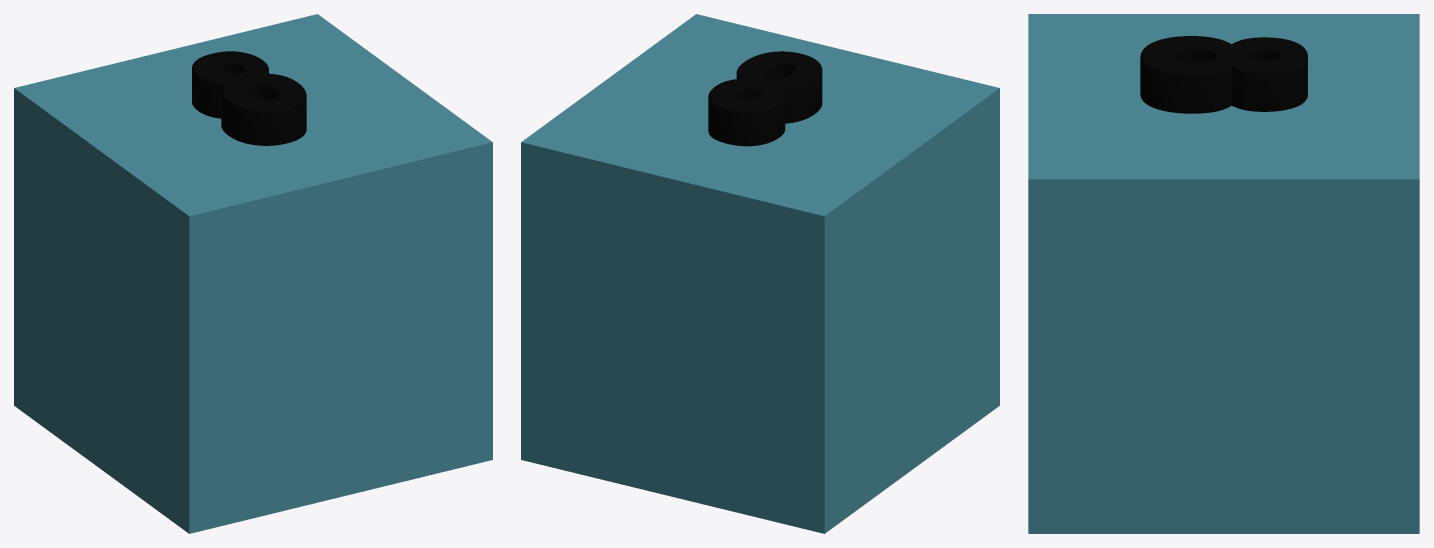
Rendered from level8.fbx.
3 renders of one model, left to right at view 1: azimuth 30°, elevation 25°; view 2: azimuth 150°, elevation 25°; view 3: azimuth 270°, elevation 25°, orthographic. The views are drawn at different scales.
Parts seen in each view (by area): view 1: Text; view 2: Text; view 3: Text.
Boxes of the visible parts, x1,y1,x2,y2 form: Text: (14, 14, 492, 533); Text: (521, 14, 999, 533); Text: (1028, 14, 1419, 533).
Size of the model in its own units: 200 by 223 by 200.
